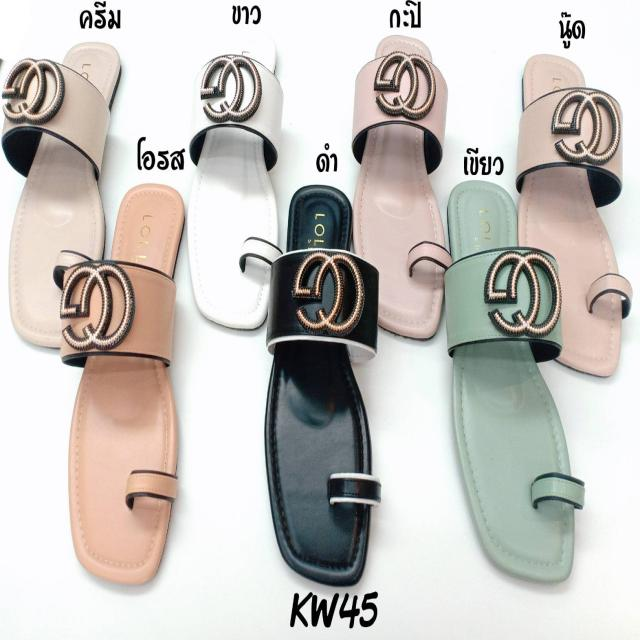black: (271, 190, 372, 582)
cream: (7, 38, 120, 346)
green: (446, 186, 576, 580)
kapi: (356, 29, 446, 340)
nood: (520, 51, 622, 381)
orot: (70, 182, 184, 578)
white: (190, 27, 280, 330)
